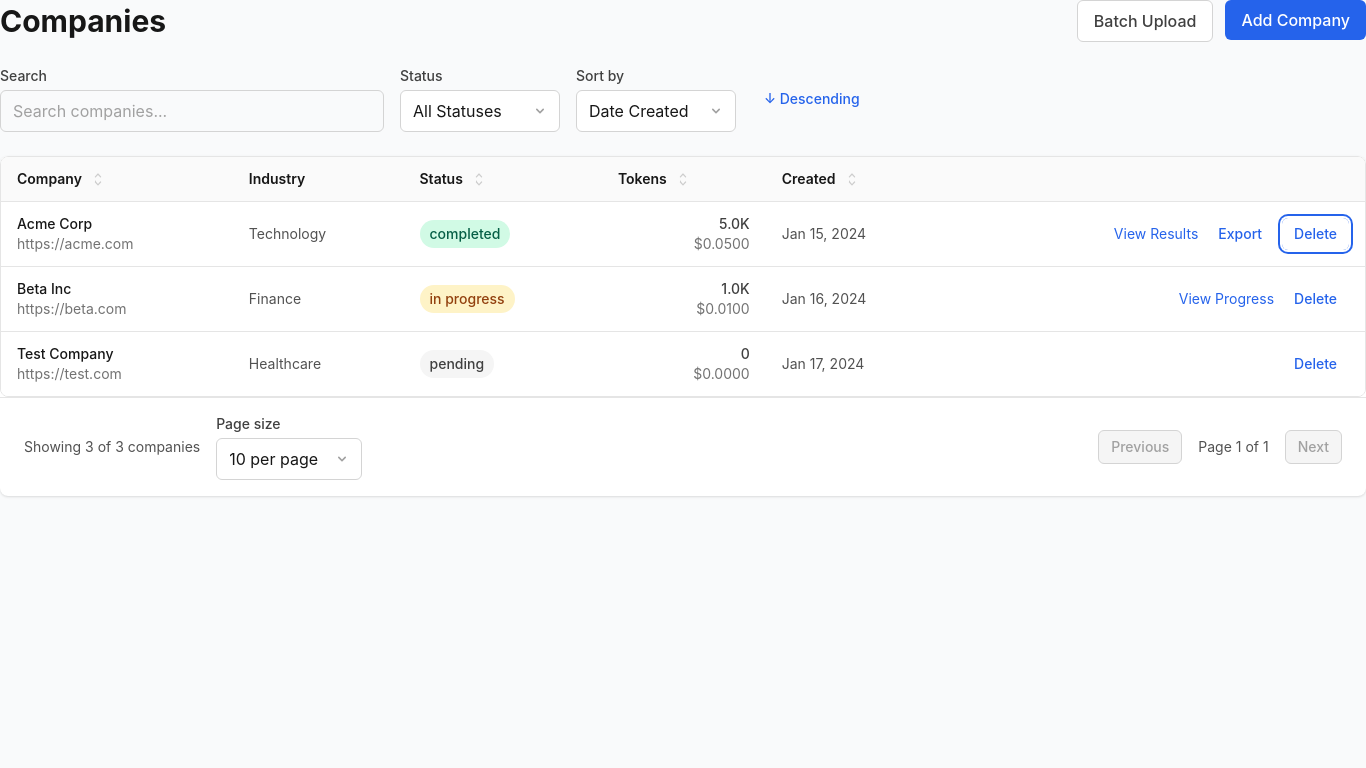
Test: TestDeleteAccessibility › delete buttons are keyboard accessible
This screenshot has width=1366, height=768.
Note: Use user.click instead of keyboard since button is focused and click simulates full interaction
Click the button "Delete" in the row of "View Results" at x=1316, y=234, box [1282,218,1349,250]
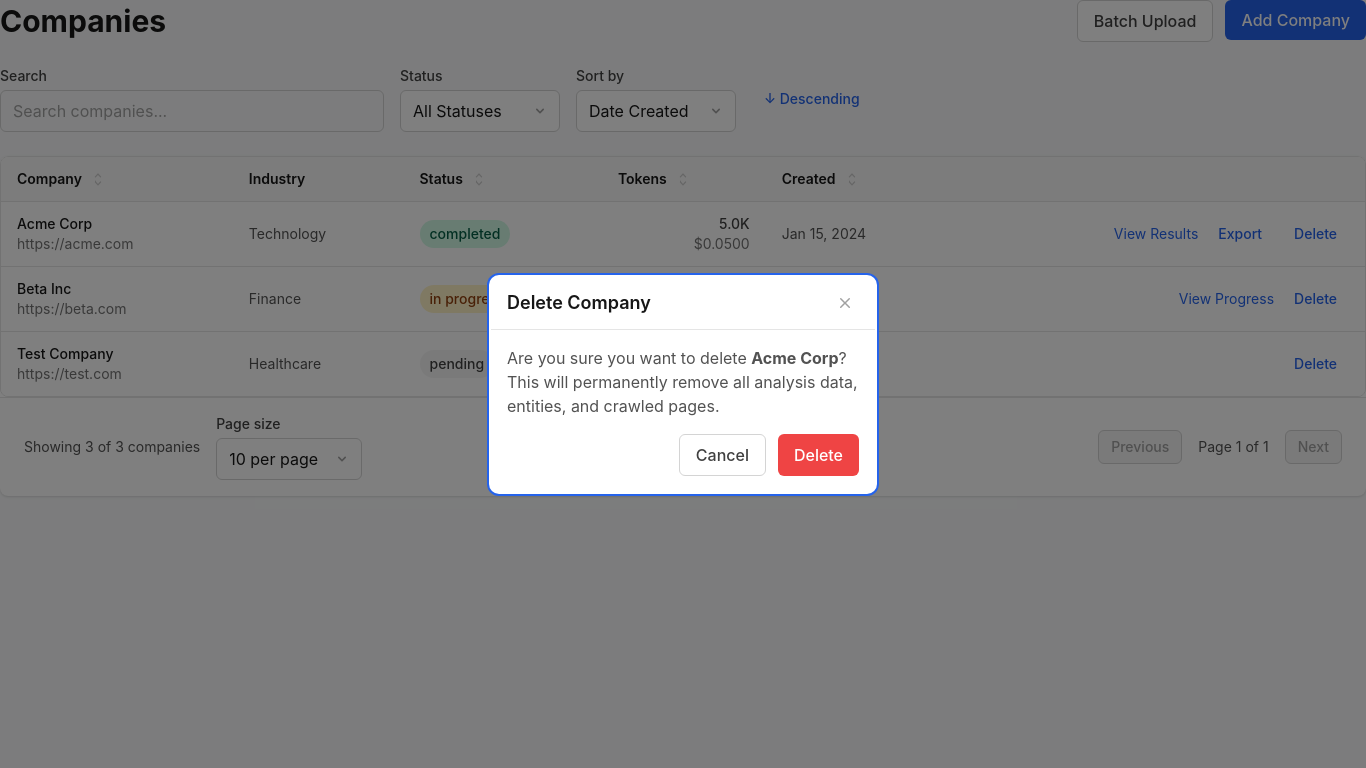
expect the dialog is shown: met, box [491,276,875,492]
